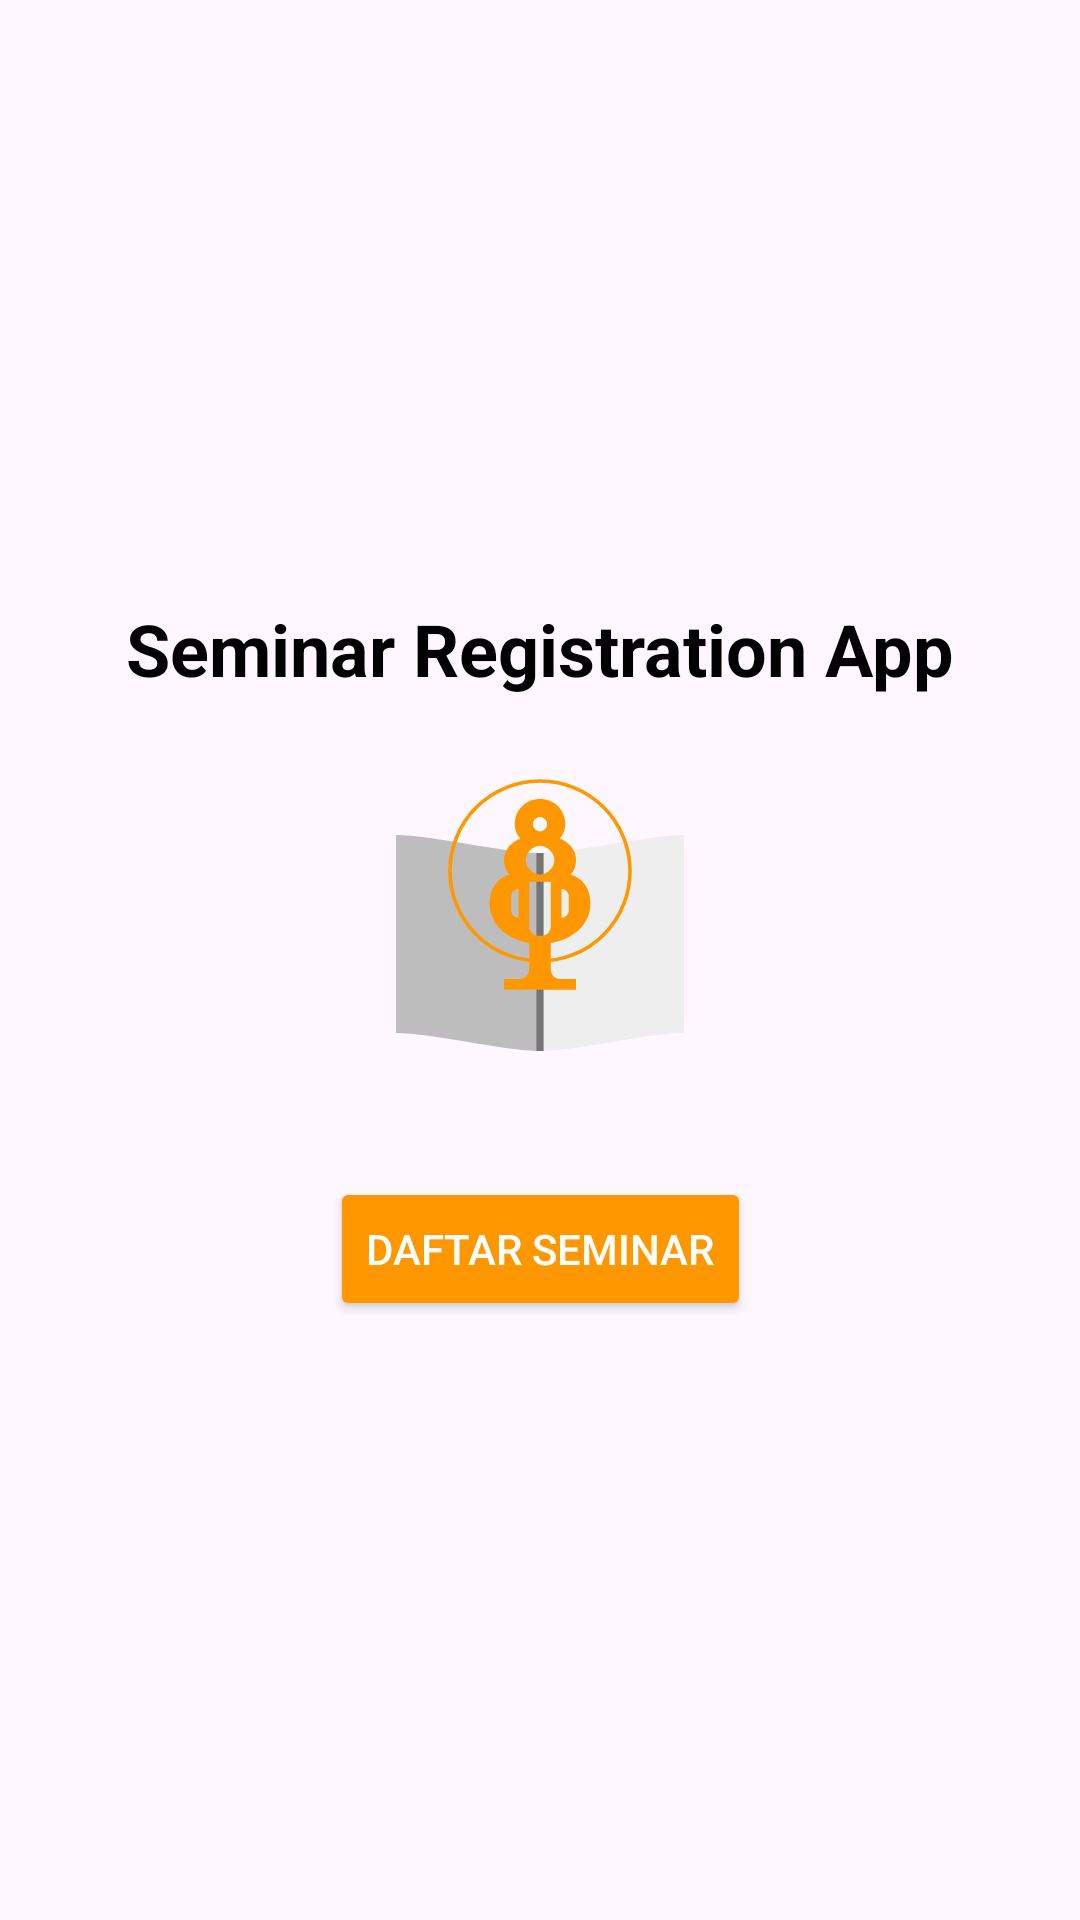

Icons on this 1080 × 1920 Android screen, each with the point to tap as (x,y):
book ganesa: (514,915)
